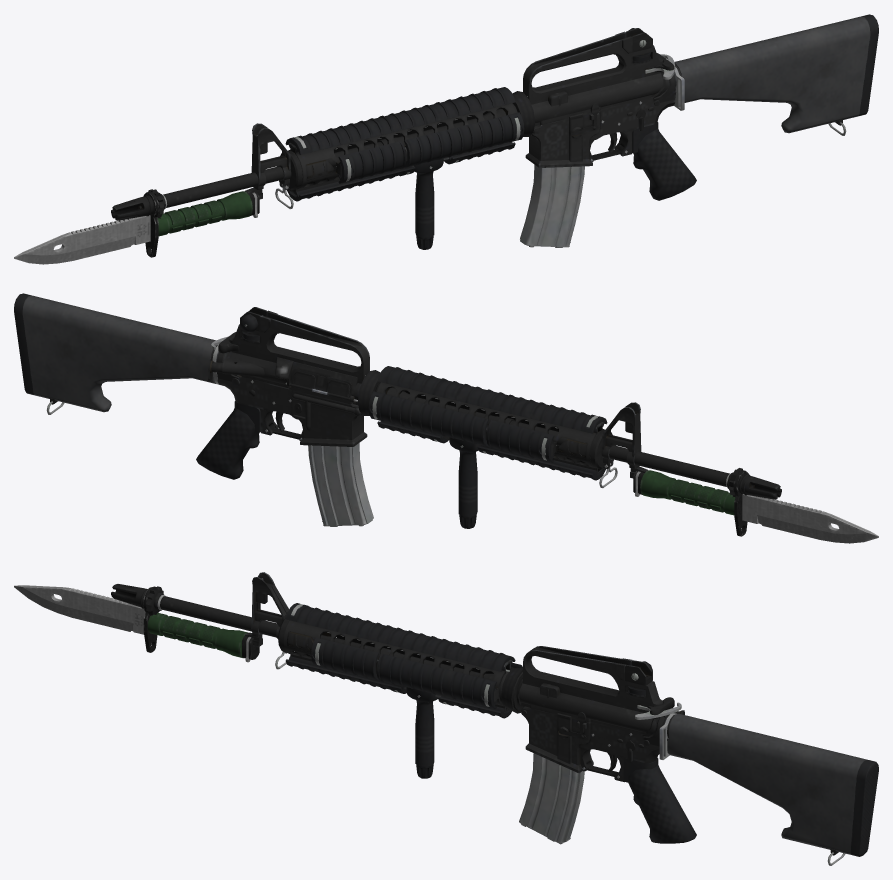
File: arsa1.obj
3 renders of one model, top to bottom at view 1: azimuth 30°, elevation 25°; view 2: azimuth 150°, elevation 25°; view 3: azimuth 330°, elevation 25°, orthographic.
Parts seen in each view (by area): view 1: Stock_A1, Upper, Combat_knife_model2, Lower, Picatiny_cover_avarage, Picatiny_cover_long, Magazine_30, Handguard, Barrel, Pistol_grip, Picatiny_cover_short, Vertical_foregrip (+3 smaller); view 2: Stock_A1, Upper, Combat_knife_model2, Lower, Picatiny_cover_avarage, Picatiny_cover_long, Magazine_30, Handguard, Barrel, Pistol_grip, Picatiny_cover_short, Vertical_foregrip (+3 smaller); view 3: Stock_A1, Upper, Combat_knife_model2, Lower, Picatiny_cover_avarage, Picatiny_cover_long, Magazine_30, Pistol_grip, Barrel, Handguard, Picatiny_cover_short, Vertical_foregrip (+3 smaller).
Part boxes in pixels (<box>): Stock_A1: <box>674,14,878,135</box>; Upper: <box>523,31,669,126</box>; Combat_knife_model2: <box>14,191,259,264</box>; Lower: <box>525,72,676,167</box>; Picatiny_cover_avarage: <box>287,112,524,201</box>; Picatiny_cover_long: <box>285,87,515,154</box>; Magazine_30: <box>520,164,584,247</box>; Handguard: <box>280,103,517,195</box>; Barrel: <box>111,108,506,220</box>; Pistol_grip: <box>632,122,696,200</box>; Picatiny_cover_short: <box>338,141,515,183</box>; Vertical_foregrip: <box>414,158,443,249</box>; Stock_A1: <box>14,293,215,414</box>; Upper: <box>222,310,369,405</box>; Combat_knife_model2: <box>633,470,878,543</box>; Lower: <box>216,351,367,446</box>; Picatiny_cover_avarage: <box>368,391,605,480</box>; Picatiny_cover_long: <box>377,366,607,433</box>; Magazine_30: <box>308,443,373,526</box>; Handguard: <box>375,382,612,474</box>; Barrel: <box>386,387,781,499</box>; Pistol_grip: <box>196,401,260,479</box>; Picatiny_cover_short: <box>377,420,554,462</box>; Vertical_foregrip: <box>449,437,478,528</box>; Stock_A1: <box>667,713,878,865</box>; Upper: <box>519,646,663,736</box>; Combat_knife_model2: <box>14,585,259,662</box>; Lower: <box>521,706,669,782</box>; Picatiny_cover_avarage: <box>285,653,522,708</box>; Picatiny_cover_long: <box>285,603,515,671</box>; Magazine_30: <box>519,753,584,844</box>; Pistol_grip: <box>623,758,696,843</box>; Barrel: <box>111,584,493,680</box>; Handguard: <box>278,618,513,712</box>; Picatiny_cover_short: <box>311,637,511,718</box>; Vertical_foregrip: <box>406,687,437,778</box>.
Bounding box in the file's own units: 2.31 × 0.5023 × 0.1548.
